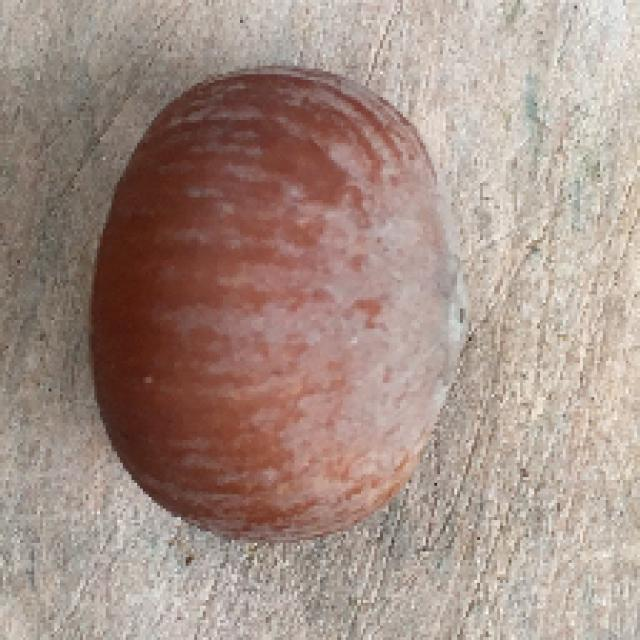qualityHazelnut: (84, 53, 474, 545)
